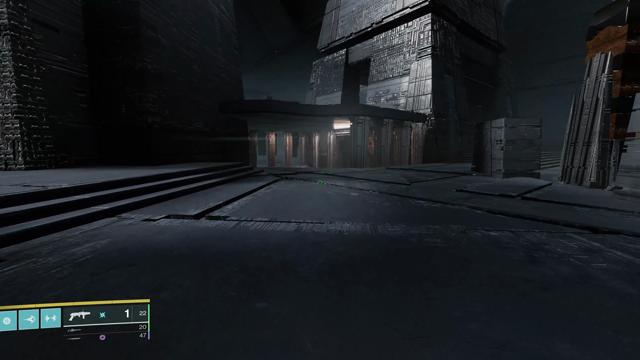kill: (368, 133, 375, 157)
